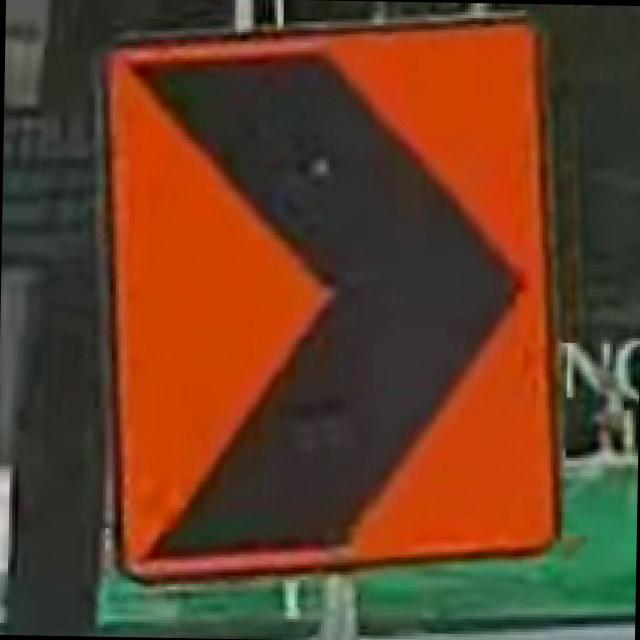curveright_sign: (92, 11, 573, 587)
